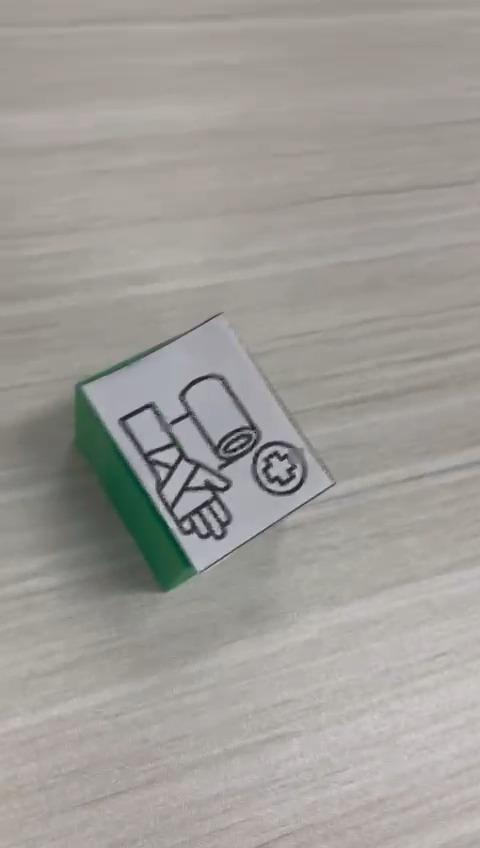Bandages: (73, 312, 337, 592)
